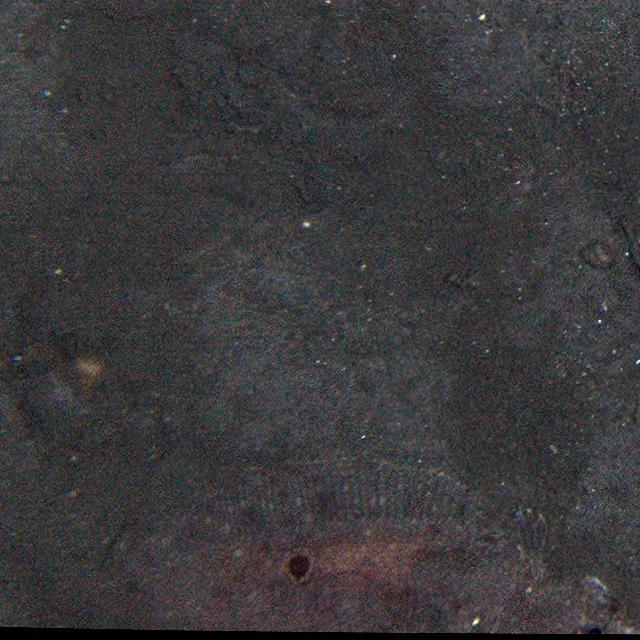flatfish: (122, 453, 629, 636)
